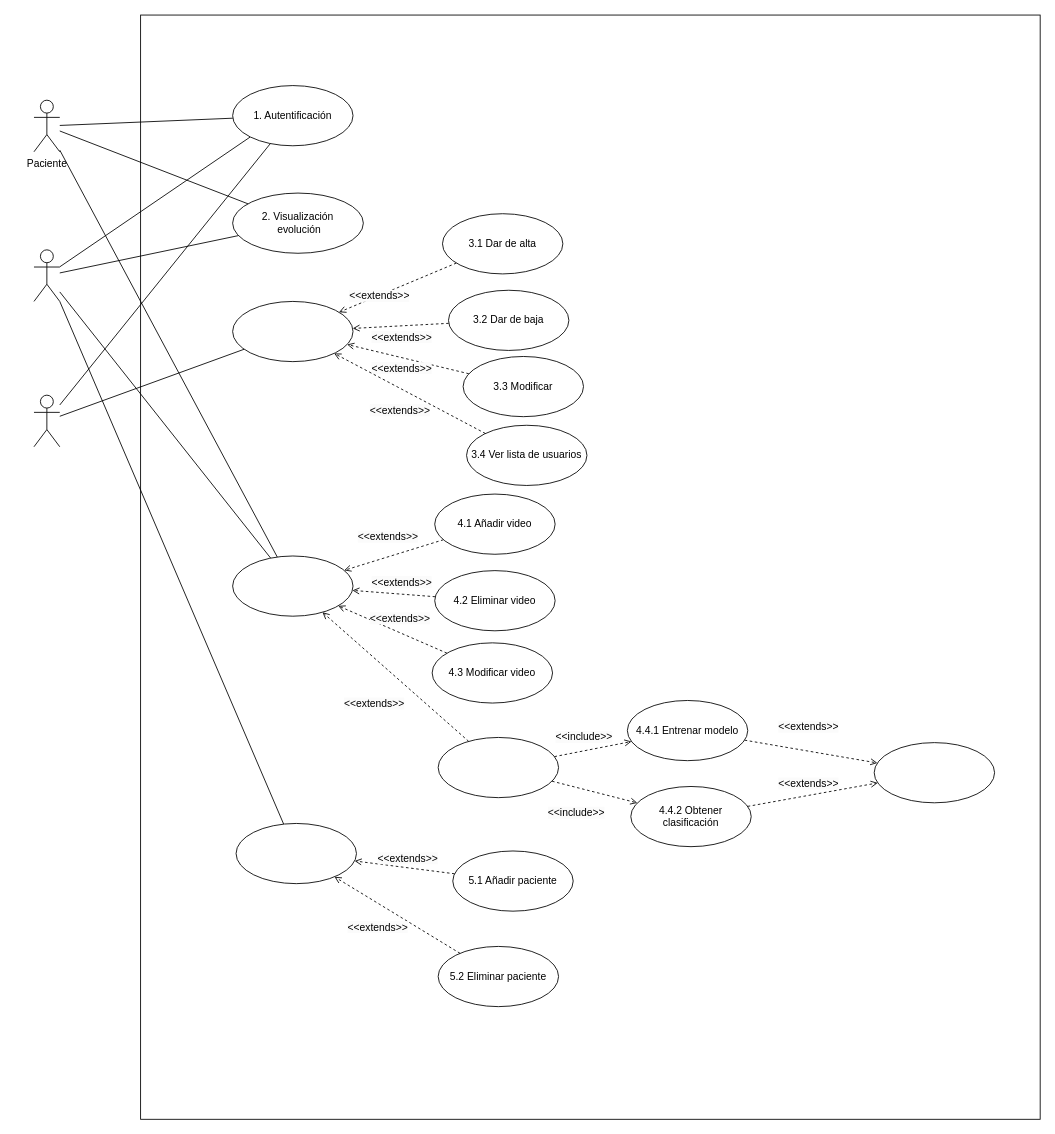
This 1055x1134 diagram has some shape labels left out. Here are the shapes that lost their labels. From the top down, the box of each, then its label:
(33, 249, 60, 301): Médico
(232, 301, 353, 362): 3. Administración de usuarios
(33, 394, 60, 447): Administrador
(232, 555, 353, 616): 4. Administrar video
(437, 737, 559, 798): 4.4 Clasificar video
(873, 742, 995, 803): 6. Extracción de características
(235, 823, 356, 884): 5. Administrar pacientes
